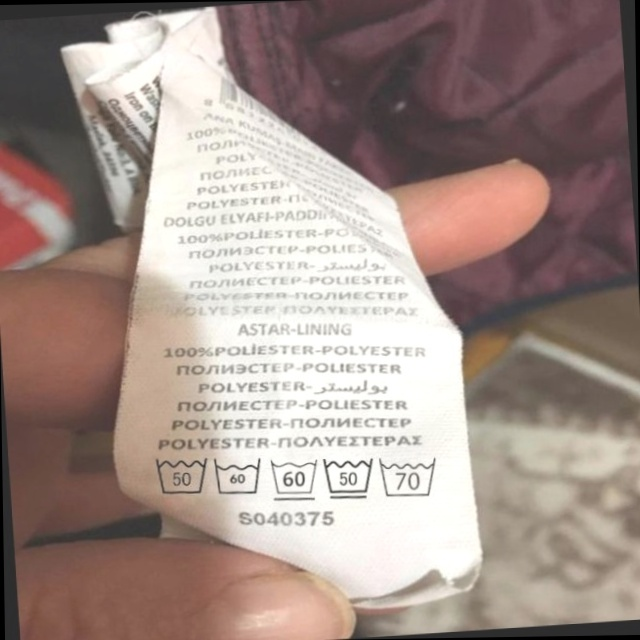50C: (148, 447, 213, 502), (320, 452, 379, 504)
60C: (268, 452, 324, 504), (211, 452, 268, 501)
70C: (378, 452, 445, 501)
